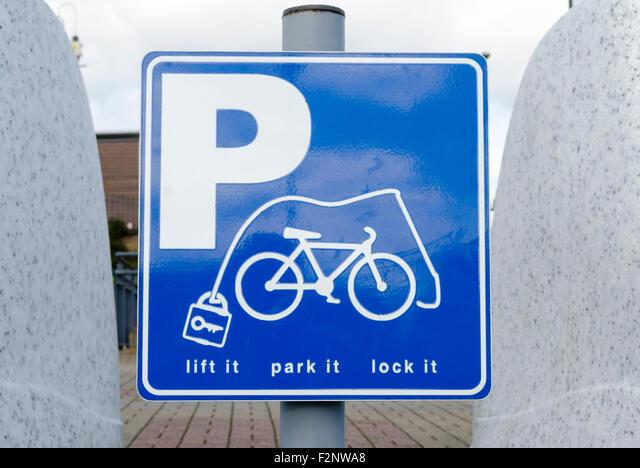Parking Lot Cycle: (158, 60, 469, 386)
